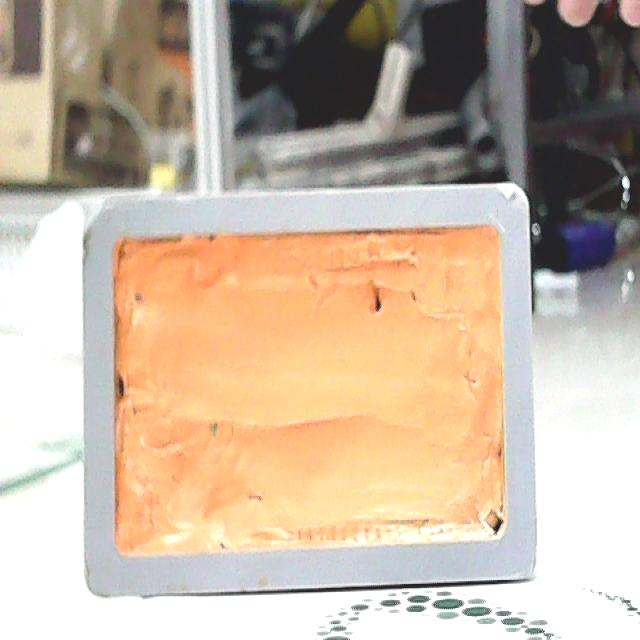block: (82, 186, 538, 594)
